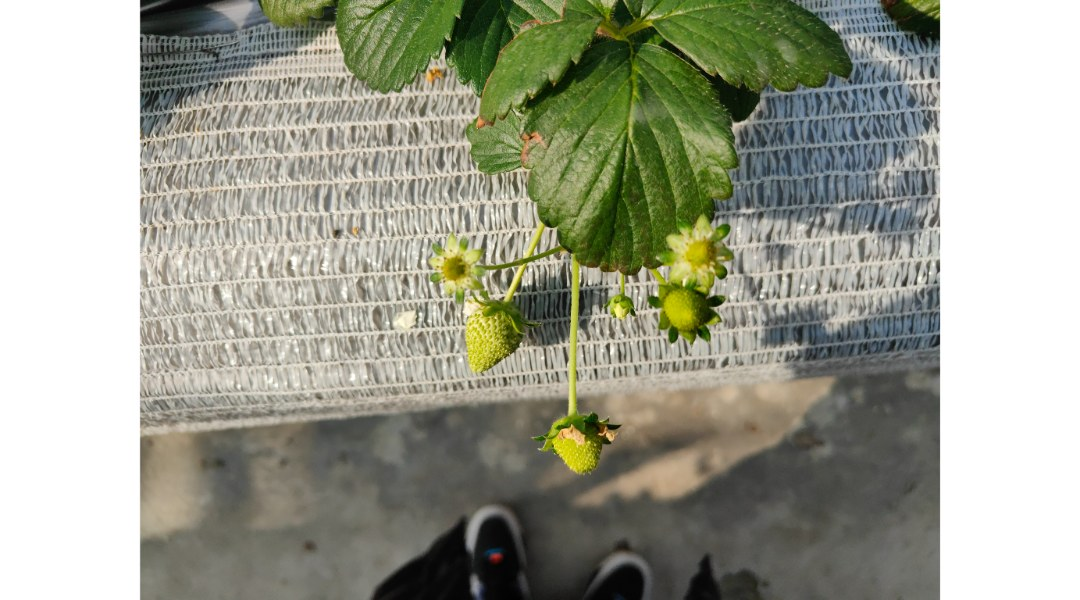berry: (645, 200, 743, 293), (454, 284, 526, 384), (649, 271, 720, 360), (544, 404, 617, 480), (421, 229, 485, 298), (601, 288, 637, 326)
strain: (494, 219, 552, 309), (563, 247, 581, 420)
